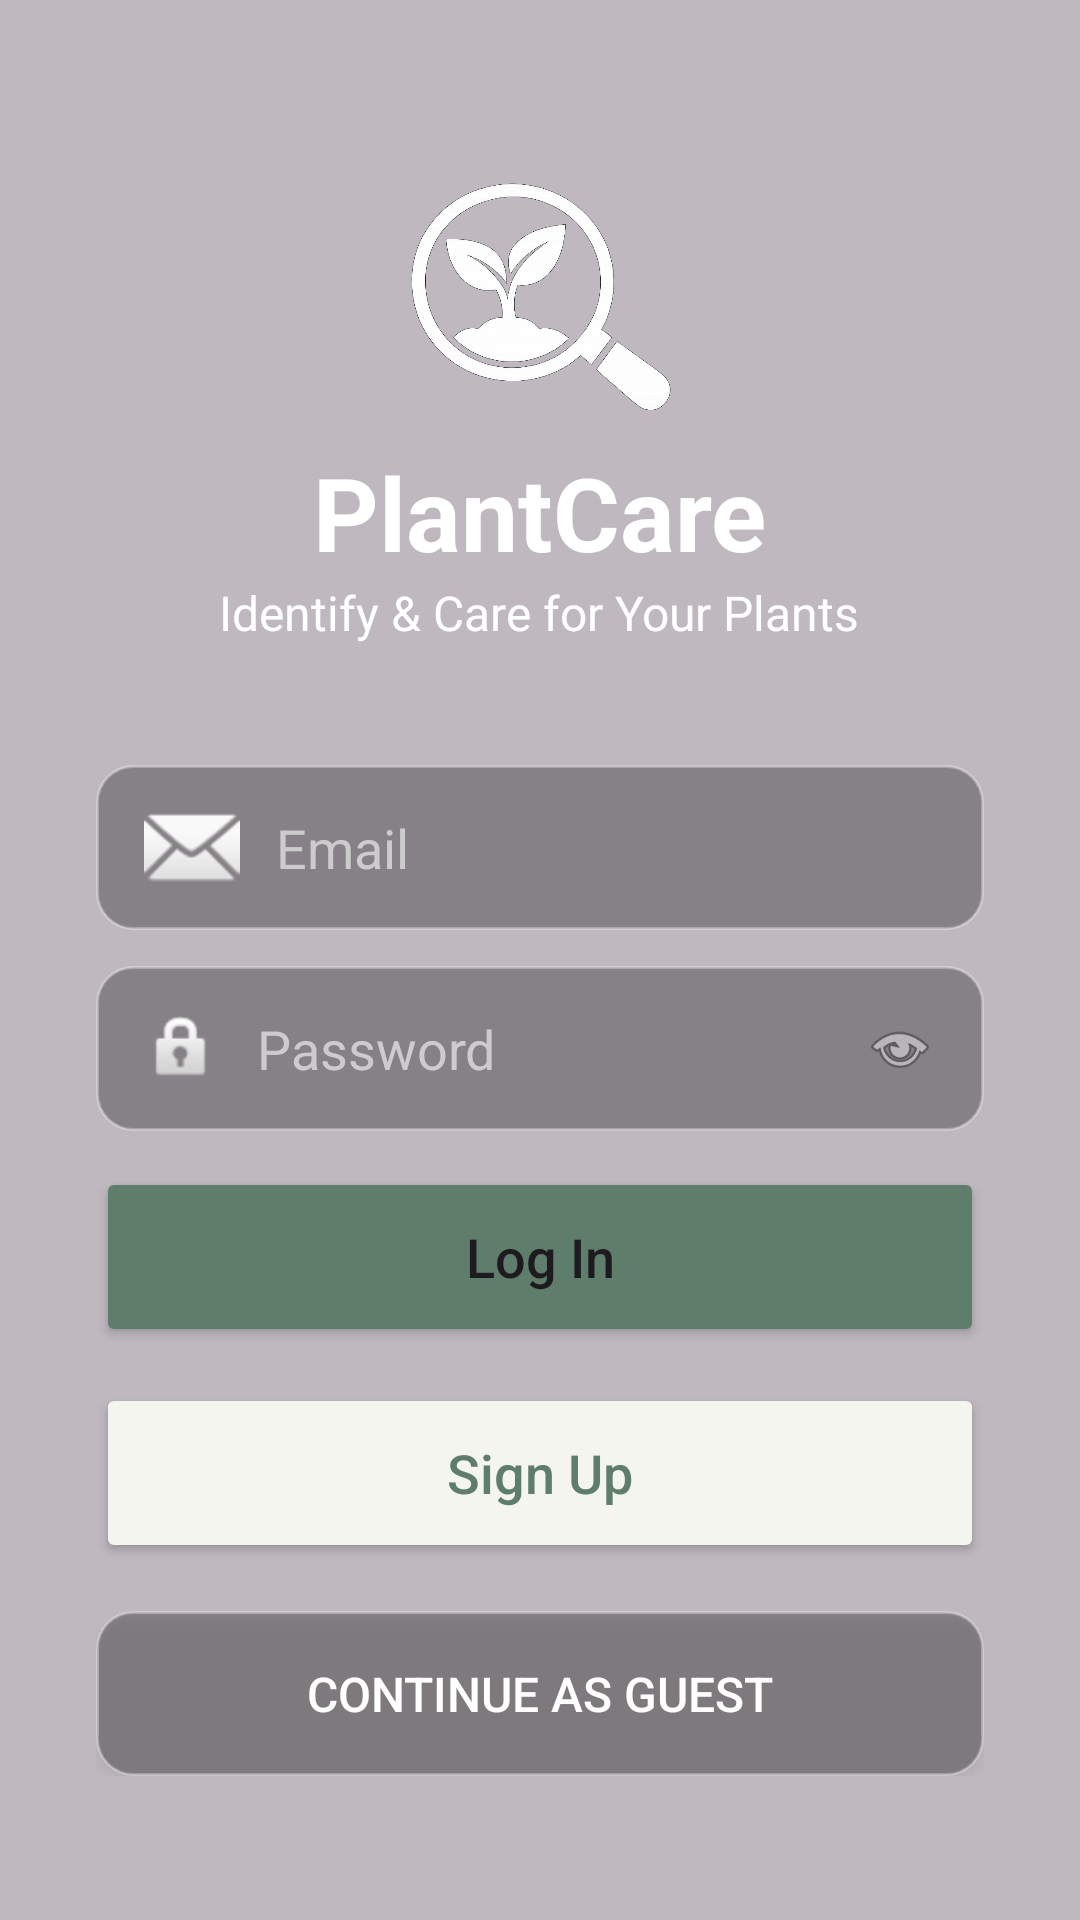

Screen size 1080x1920. Icon name, then its box in pixels as detection(x1, y1, x2, y2):
view: detection(871, 1032, 929, 1068)
